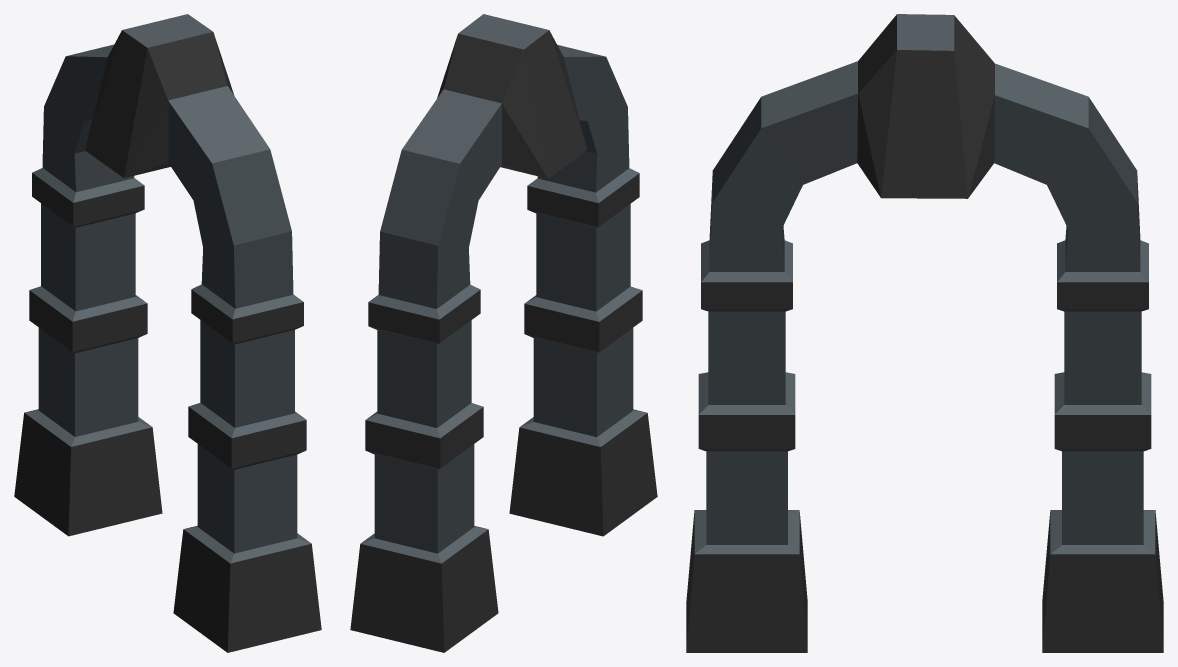
Rendered from RuinGate-A04.fbx.
3 renders of one model, left to right at view 1: azimuth 30°, elevation 25°; view 2: azimuth 150°, elevation 25°; view 3: azimuth 270°, elevation 25°, orthographic. The views are drawn at different scales.
Visible parts, largest first — view 1: RuinGate-A04; view 2: RuinGate-A04; view 3: RuinGate-A04.
Boxes of the visible parts, x1,y1,x2,y2 form: RuinGate-A04: (14, 14, 321, 652); RuinGate-A04: (350, 14, 657, 652); RuinGate-A04: (686, 14, 1163, 652).
Size of the model in its own units: 526 by 725 by 181.
